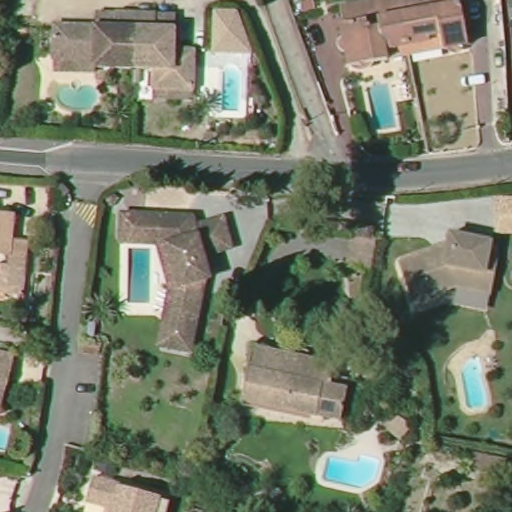pool: (313, 444, 388, 494), (120, 243, 167, 314), (454, 346, 493, 417), (364, 77, 405, 137), (214, 60, 251, 117), (53, 78, 105, 114), (1, 419, 15, 455)
